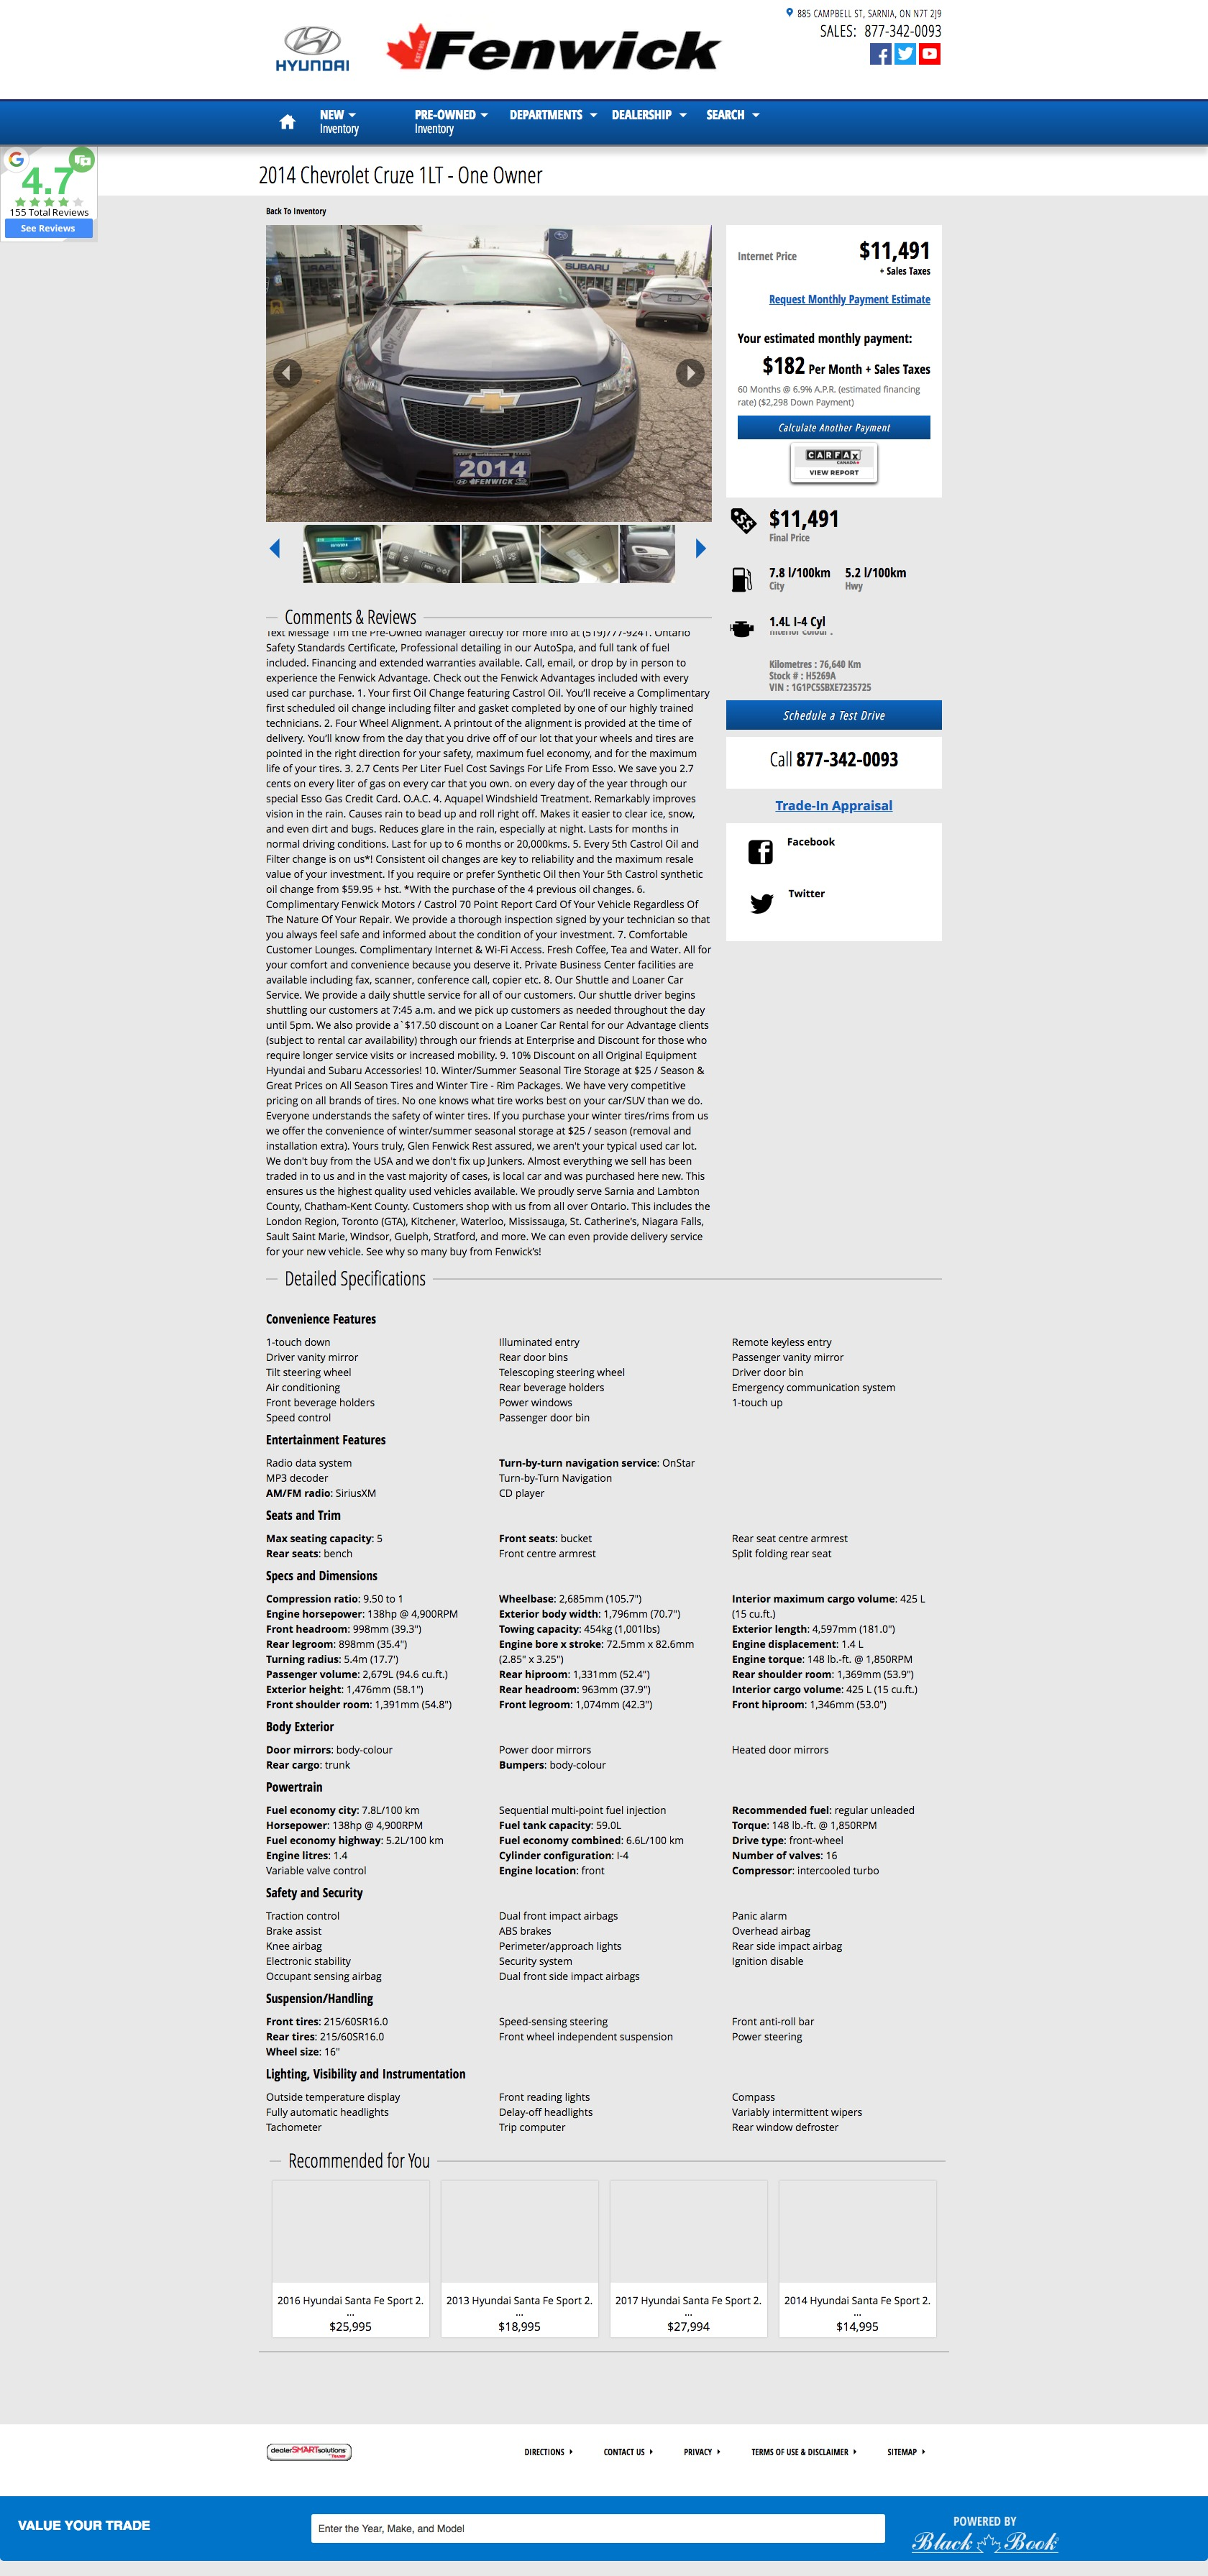car: (697, 539, 707, 559)
